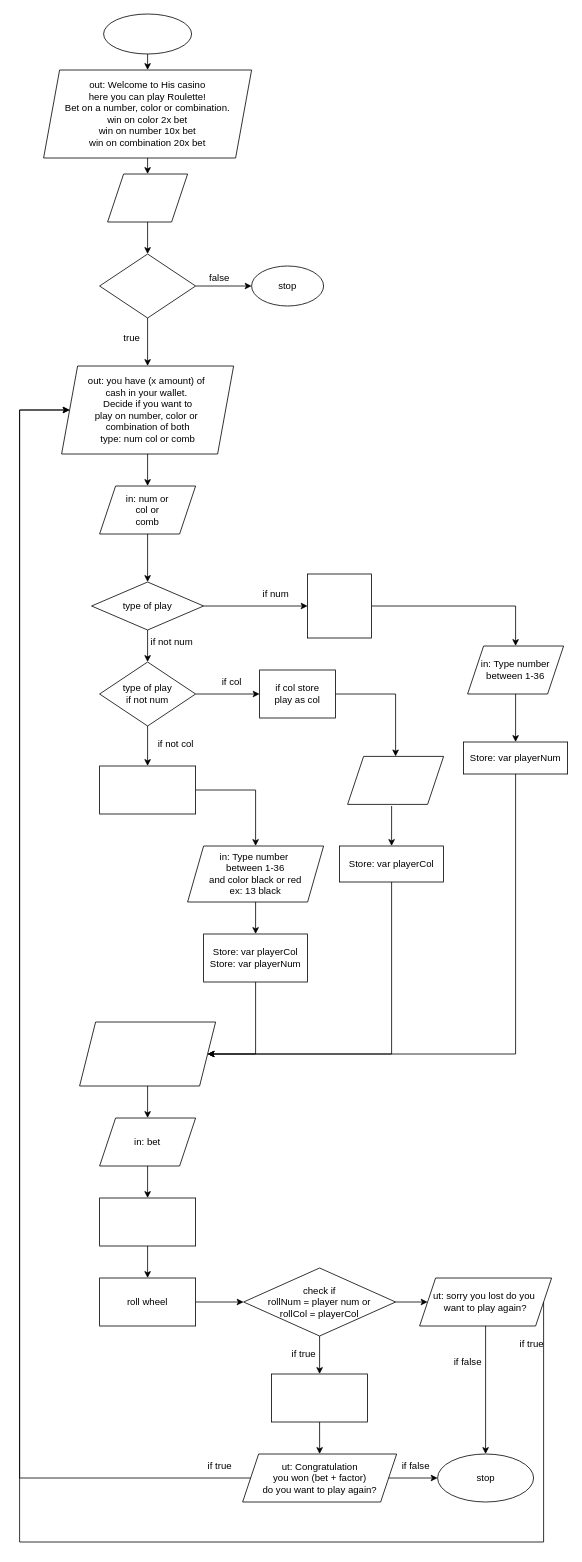
The diagram is 582 pixels wide and 1562 high, and some of its shapes have lost their labels. The centre of each missing label's shape, as x and y in pixels:
"calculation of win depending on type of play" goes at (319,1397).
"if comb store play as comb" goes at (147,789).
"if num store play as num" goes at (339,605).
"in: Type color black or red" goes at (395,780).
"in: yes or no" goes at (147,197).
"start" goes at (147,33).
"store: var bet" goes at (147,1221).
"true or false" goes at (147,285).
"ut: place your bet Type: 100, 300 or 500" goes at (147,1053).
